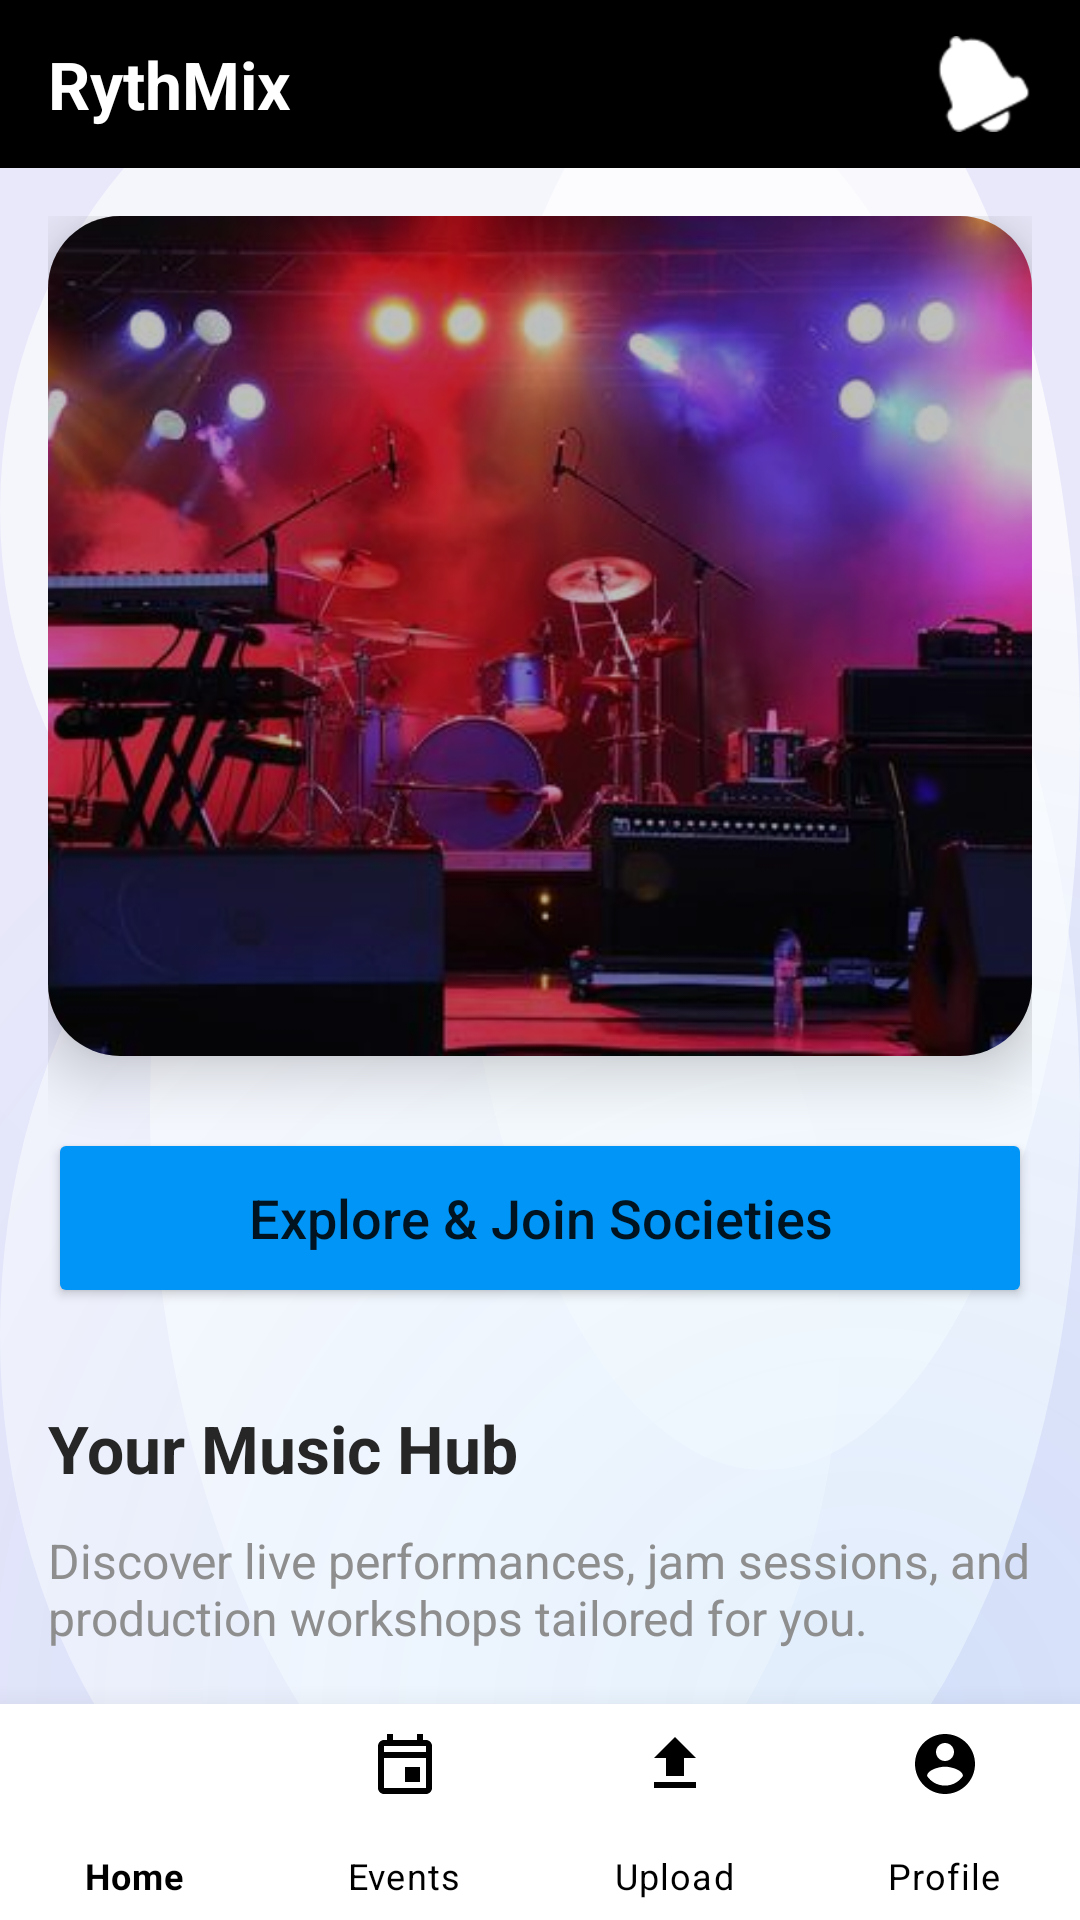

Icon click points for this 1080 x 1920 phone screenshot, format [x,y]:
popup reminder: [984,84]
